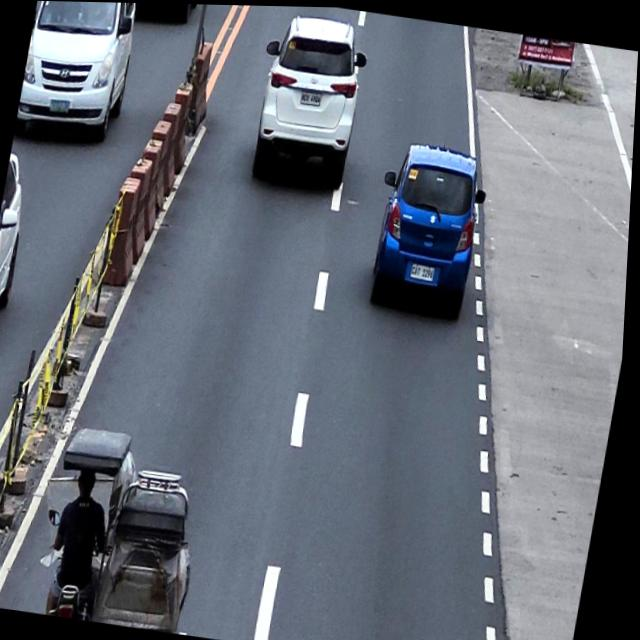Car: (245, 7, 374, 190), (365, 135, 495, 315), (15, 0, 143, 143), (0, 151, 36, 346)
License-Plate: (410, 257, 440, 281), (298, 85, 324, 107), (49, 96, 72, 116)
Tricycle: (34, 419, 220, 633)
